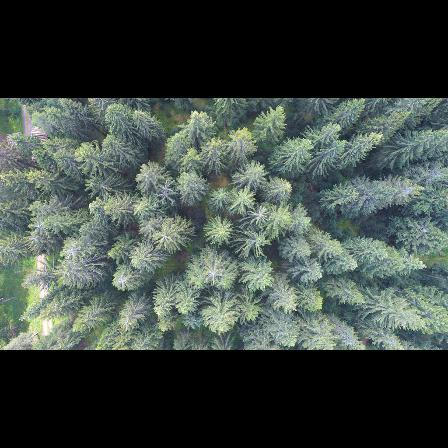Sick: (158, 179, 177, 205), (249, 206, 273, 225), (201, 267, 220, 287), (157, 230, 172, 243)
